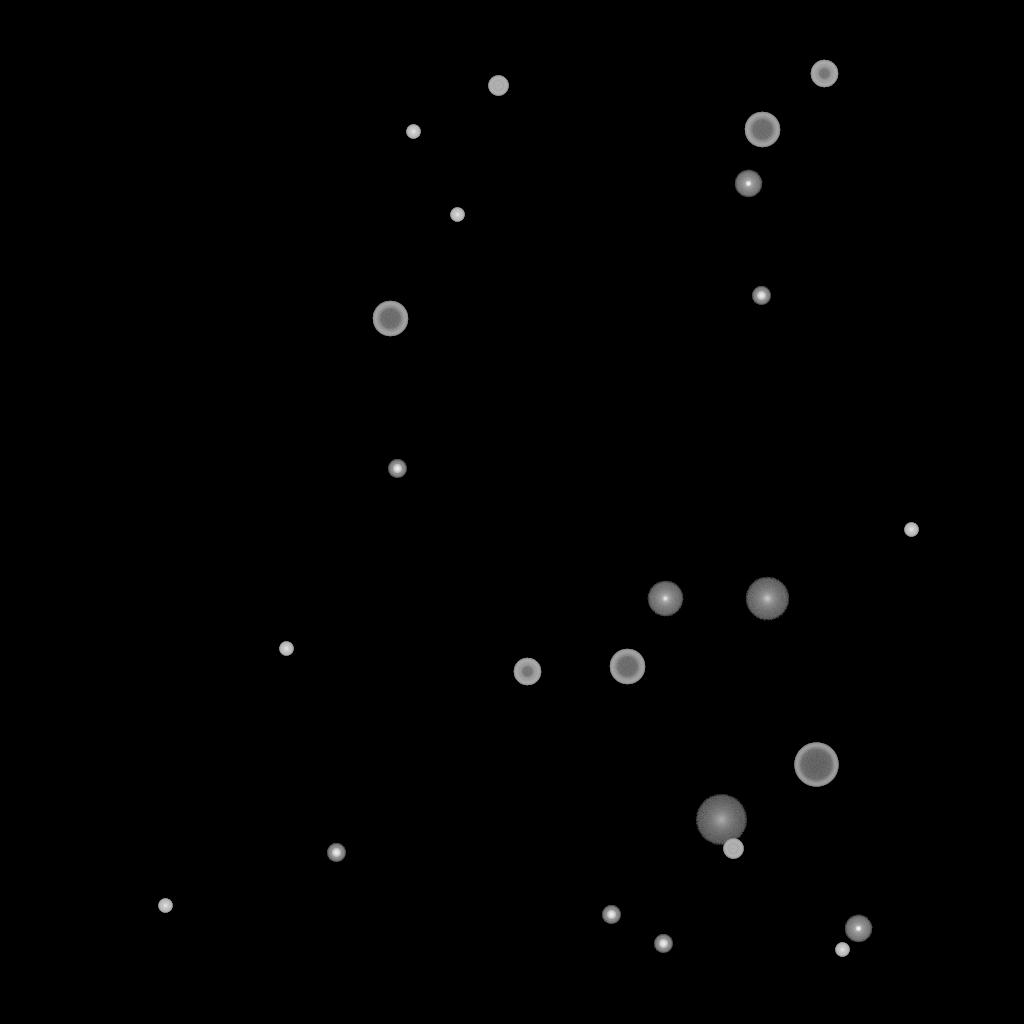depth:-10: (844, 915, 872, 943), (734, 170, 762, 198)
depth:-20: (654, 935, 672, 953), (327, 844, 345, 862), (752, 287, 770, 305), (388, 460, 406, 478), (602, 906, 620, 924)
depth:-30: (158, 899, 172, 913), (835, 943, 849, 957), (450, 208, 464, 222), (279, 642, 293, 656), (904, 523, 918, 537), (406, 125, 420, 139)
depth:-40: (488, 76, 508, 96), (723, 839, 743, 859)
depth:-50: (810, 60, 838, 88), (513, 658, 541, 686)
depth:-60: (609, 649, 645, 685), (372, 301, 408, 337), (744, 112, 780, 148)
depth:-70: (794, 743, 838, 787)
depth:0: (647, 581, 683, 617)
depth:10: (745, 577, 789, 621)
depth:20: (695, 795, 747, 845)
